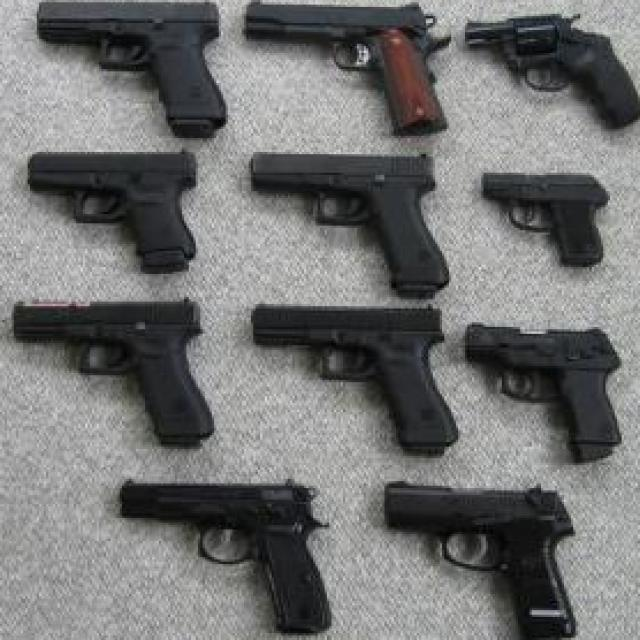pistol: (115, 479, 333, 638), (251, 143, 455, 300), (380, 481, 578, 640), (237, 0, 456, 143), (253, 304, 457, 457), (12, 295, 214, 449), (35, 0, 242, 134), (453, 7, 640, 138), (25, 142, 216, 264), (468, 322, 628, 465), (474, 164, 623, 276)
